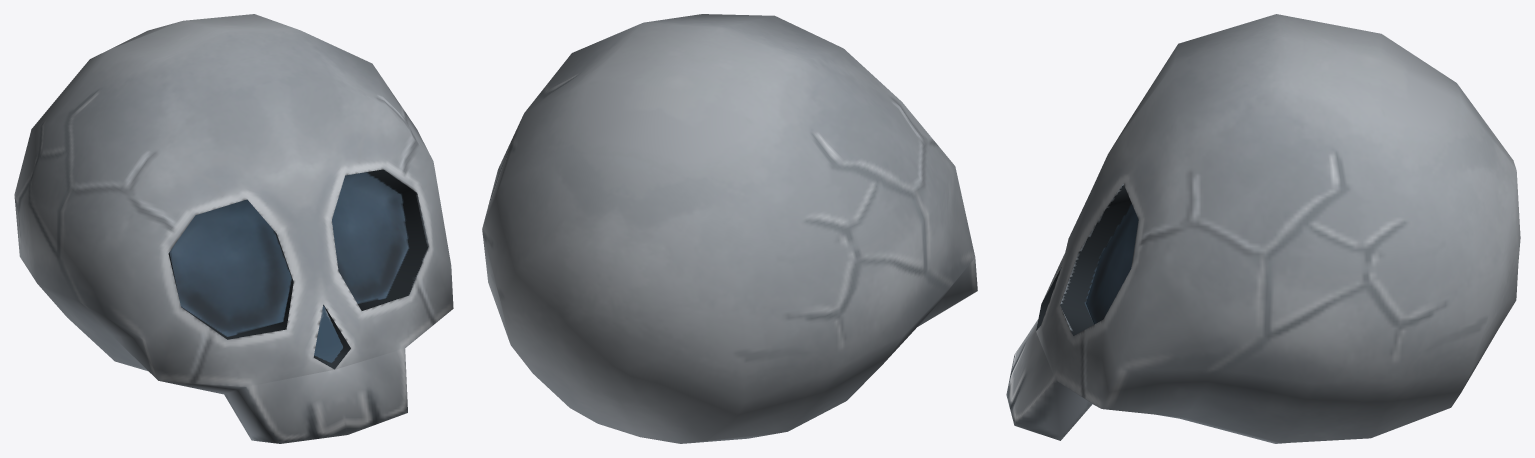
File: Skull.FBX
The picture shows the model from 3 angles, left to right: view 1: azimuth 30°, elevation 25°; view 2: azimuth 150°, elevation 25°; view 3: azimuth 270°, elevation 25°; orthographic projection. The views are drawn at different scales.
Visible parts, largest first — view 1: Object051; view 2: Object051; view 3: Object051.
Part boxes in pixels (<box>): Object051: <box>14,14,453,443</box>; Object051: <box>482,14,977,443</box>; Object051: <box>1006,14,1520,443</box>.
Bounding box in the file's own units: 22.35 × 19.93 × 24.92.
1 material, 1 textured.
